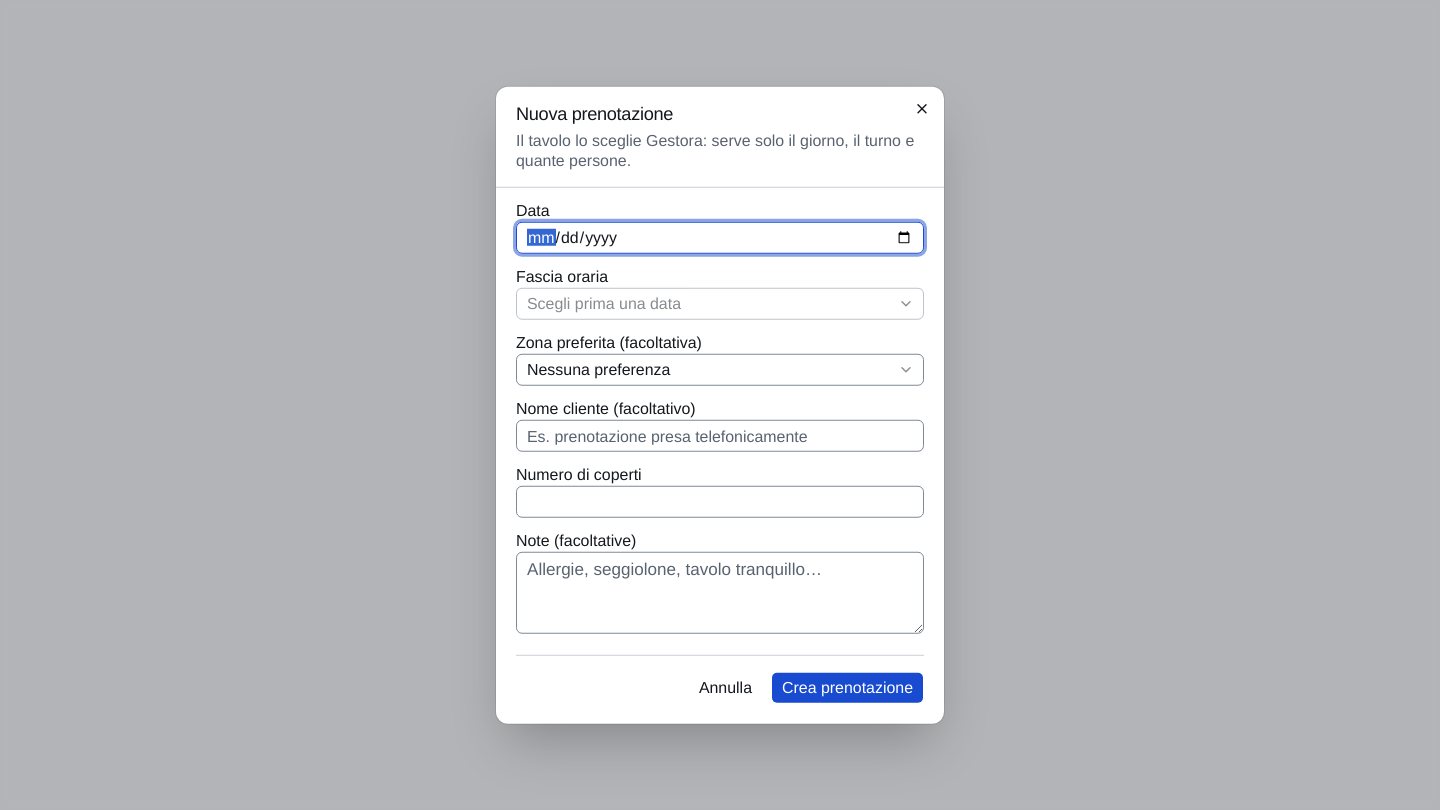
PrenotazioneModal - scelta della fascia oraria › avvisa quando per quel giorno non c e nessuna fascia attiva
The width and height of the screenshot is (1440, 810).
Type "2026-09-07" into the date field labelled "Data" at (720, 238), box [516, 222, 924, 254]
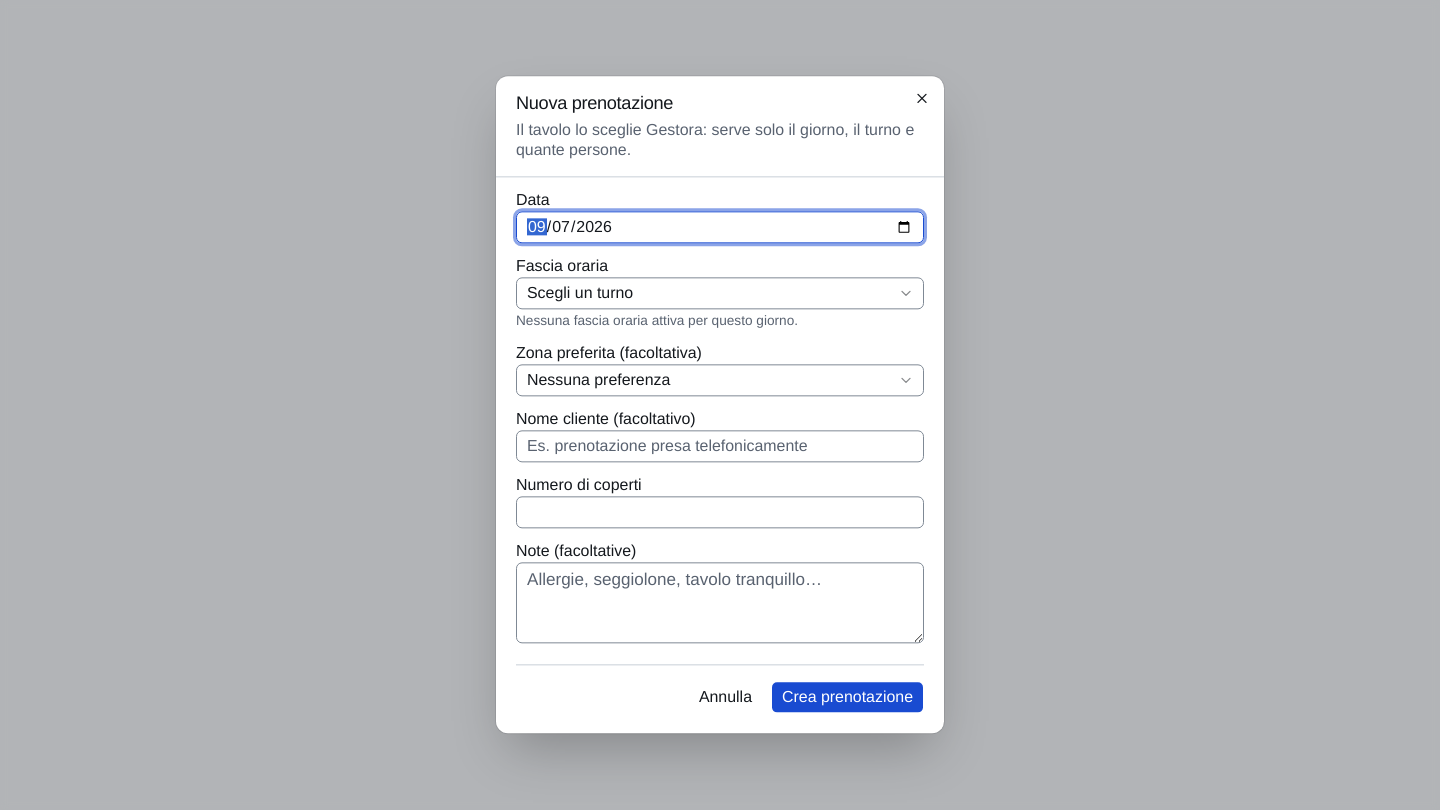
Check: the text "Nessuna fascia oraria attiva per questo giorno." is shown, box [516, 313, 798, 328]
